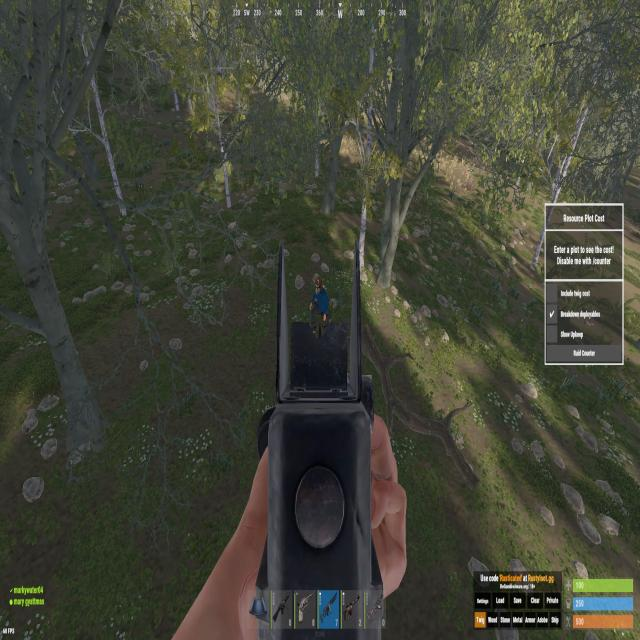Player: (310, 276, 330, 322)
